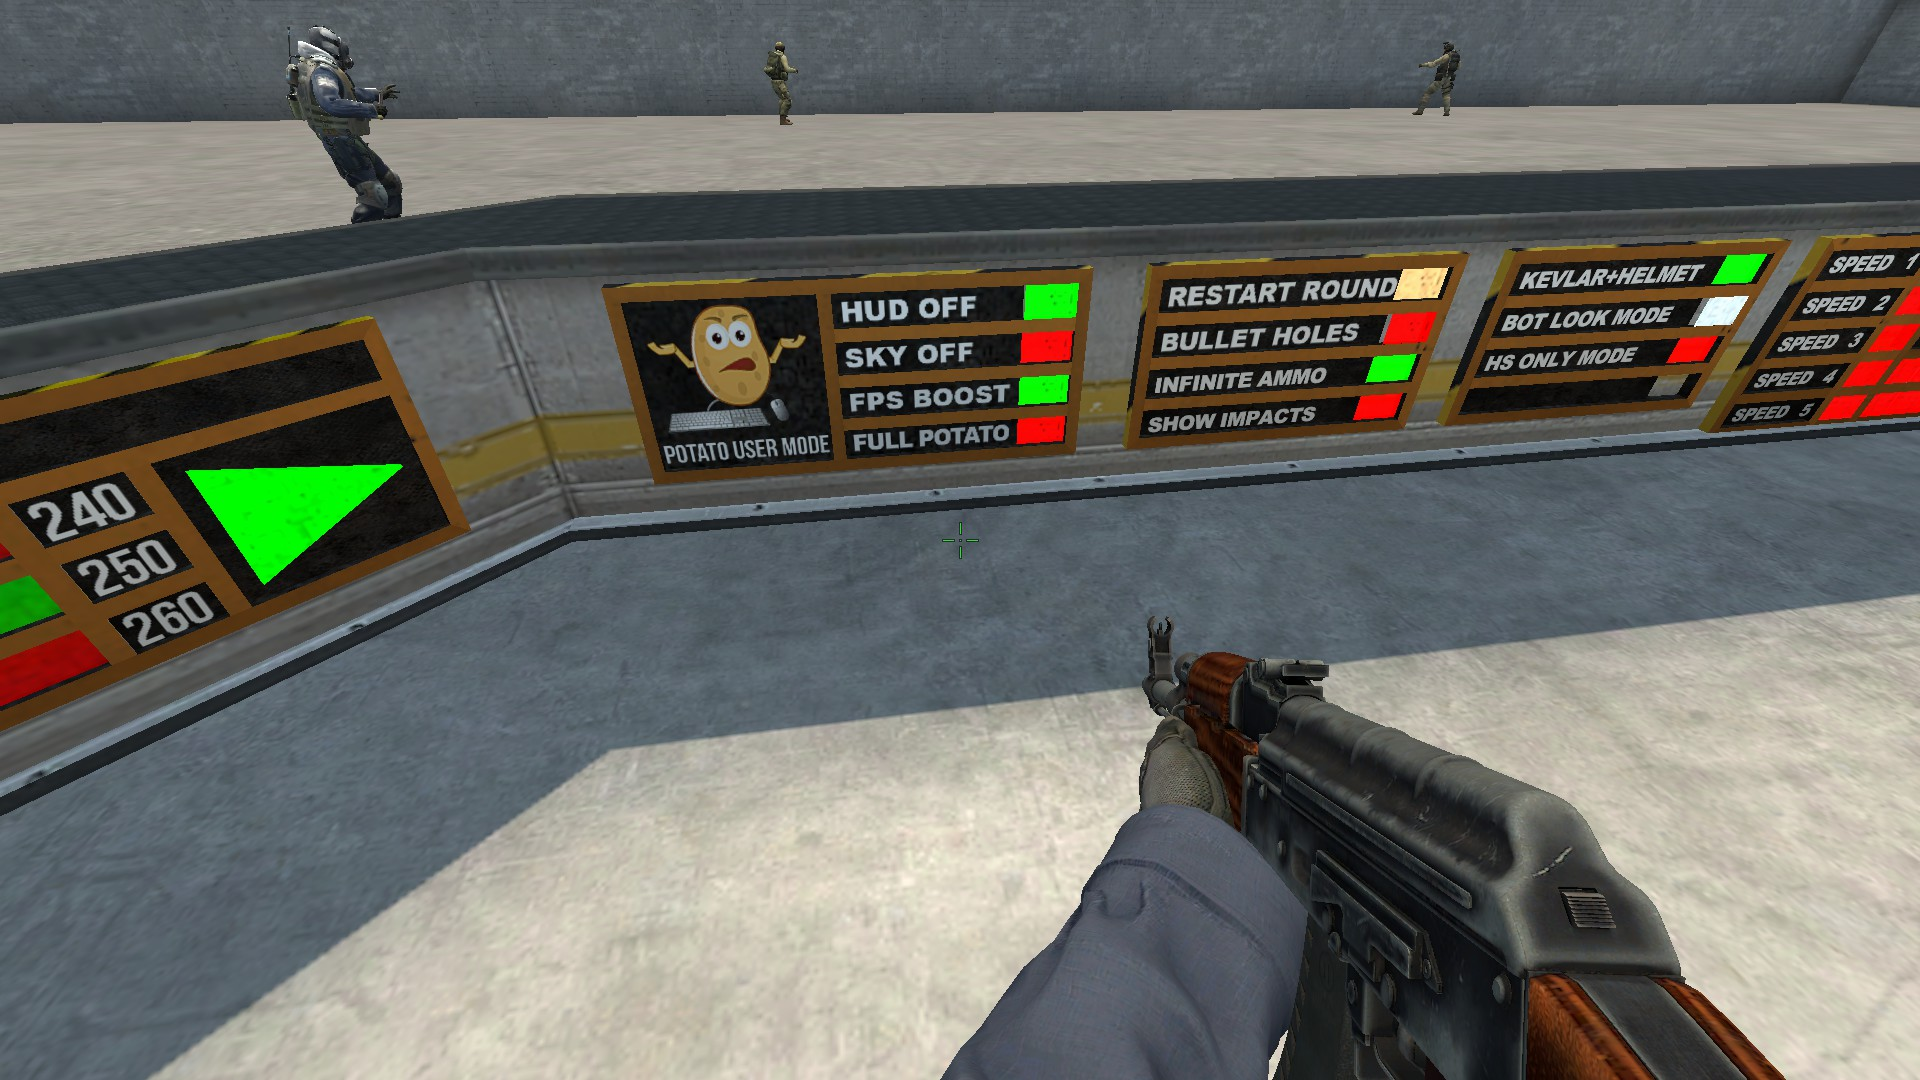ct: (280, 21, 407, 225)
ct head: (295, 18, 357, 71)
